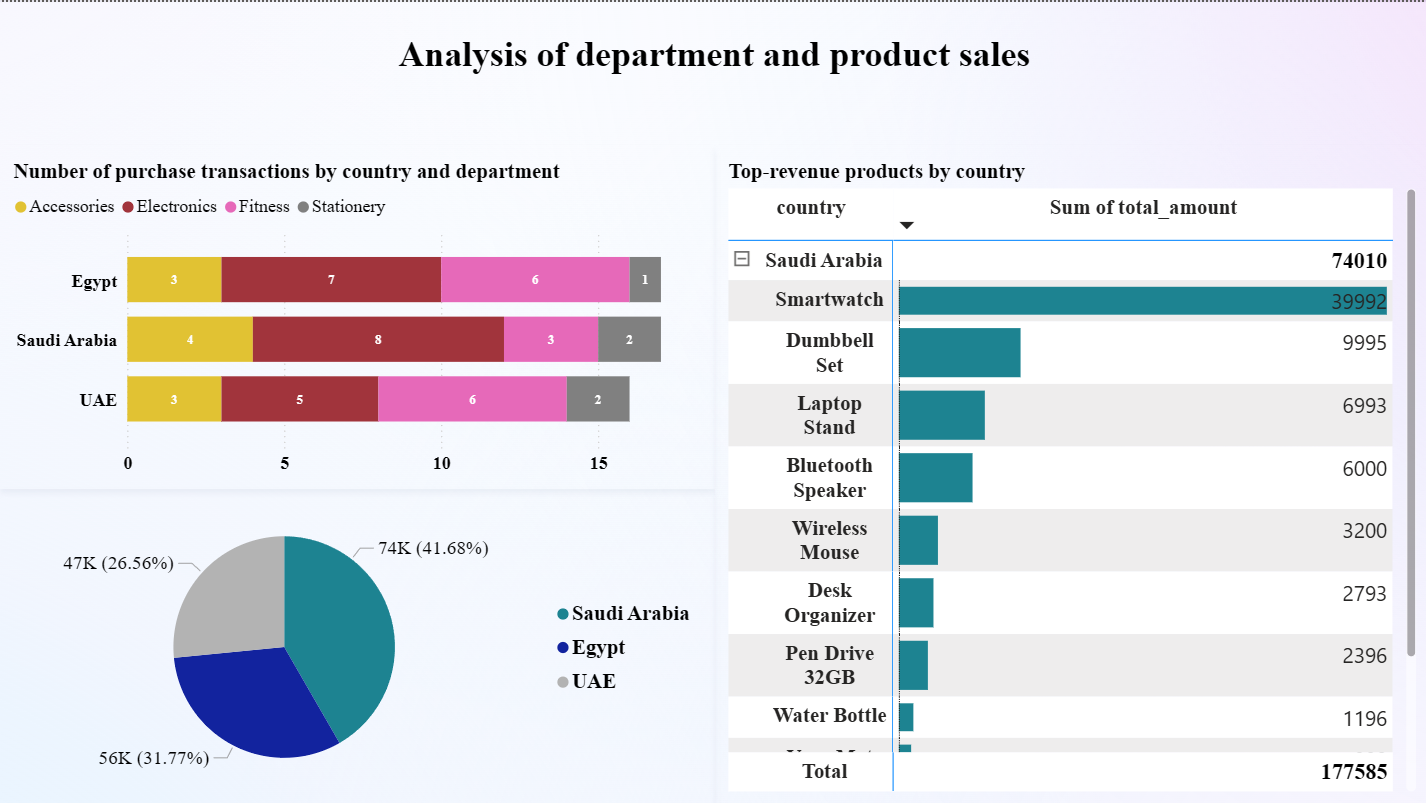

Layout of this report page (visuals, bound fields, positions):
{"tool":"powerbi","page":{"name":"Analysis ","canvas":[1280,720],"ordinal":1},"visuals":[{"type":"pivotTable","title":"Top-revenue products by country","fields":{"Rows":["top_products_gold.country","top_products_gold.product_name"],"Values":["Sum(top_products_gold.total_amount)"]},"box":[640,129.4,640,590.4],"z":0},{"type":"textbox","box":[320,23.3,640,79.8],"z":1000},{"type":"barChart","title":"Number of purchase transactions by country and department","fields":{"Category":["contry_transaction_gold.country"],"Series":["contry_transaction_gold.category"],"Y":["Sum(contry_transaction_gold.Count_transaction)"]},"box":[0,129.4,640,307.4],"z":2000},{"type":"pieChart","fields":{"Category":["country_revenue_gold.country"],"Y":["Sum(country_revenue_gold.total_amount)"]},"box":[0,436,640,283],"z":3000}]}

Visuals, with their boxes in screenshot pixels (x1, y1, x2, y2), scaled from the page's 1280x720 canvas onto the 1426x803 screenshot:
"Top-revenue products by country" pivotTable: crop(713, 144, 1425, 802)
textbox: crop(356, 26, 1070, 115)
"Number of purchase transactions by country and department" barChart: crop(0, 144, 713, 487)
pieChart - country_revenue_gold.country x Sum(country_revenue_gold.total_amount): crop(0, 486, 713, 802)
